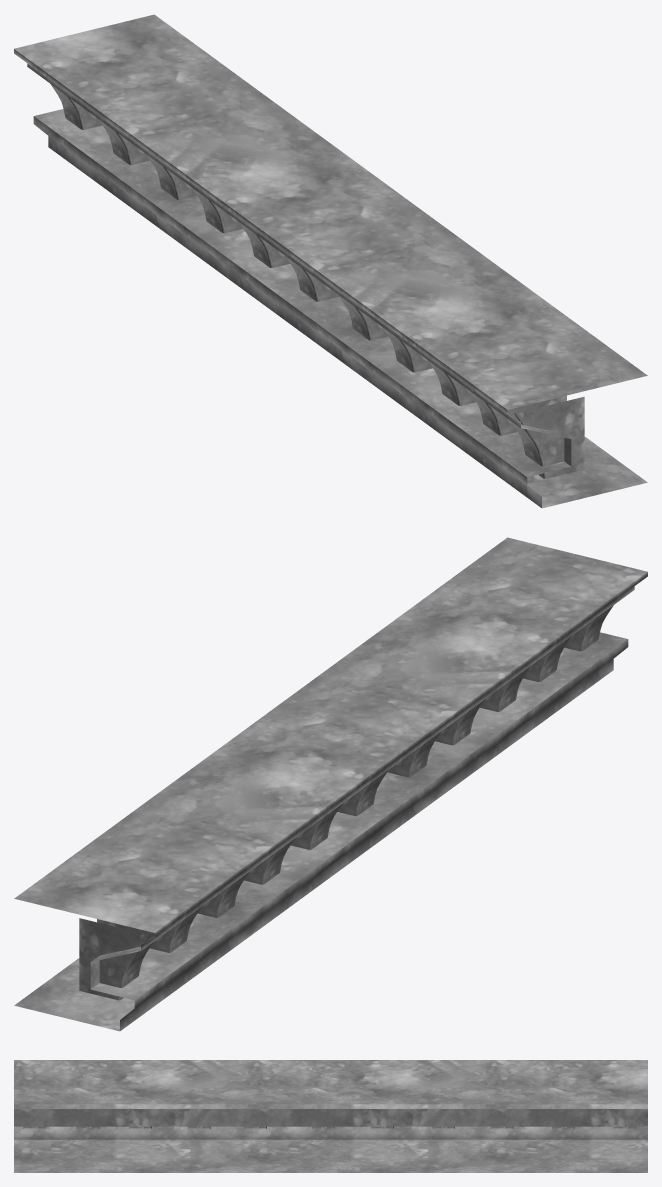
Rendered from SM_WallTrim_01f.fbx.
3 renders of one model, top to bottom at view 1: azimuth 30°, elevation 25°; view 2: azimuth 150°, elevation 25°; view 3: azimuth 270°, elevation 25°, orthographic. The views are drawn at different scales.
Visible parts, largest first — view 1: SM_WallTrim_01f_LOD0; view 2: SM_WallTrim_01f_LOD0; view 3: SM_WallTrim_01f_LOD0.
Part boxes in pixels (x1,y1,x2,y2): SM_WallTrim_01f_LOD0: [14, 14, 647, 508]; SM_WallTrim_01f_LOD0: [14, 537, 647, 1031]; SM_WallTrim_01f_LOD0: [14, 1060, 647, 1172].
Size of the model in its own units: 72.33 by 440 by 52.59.
